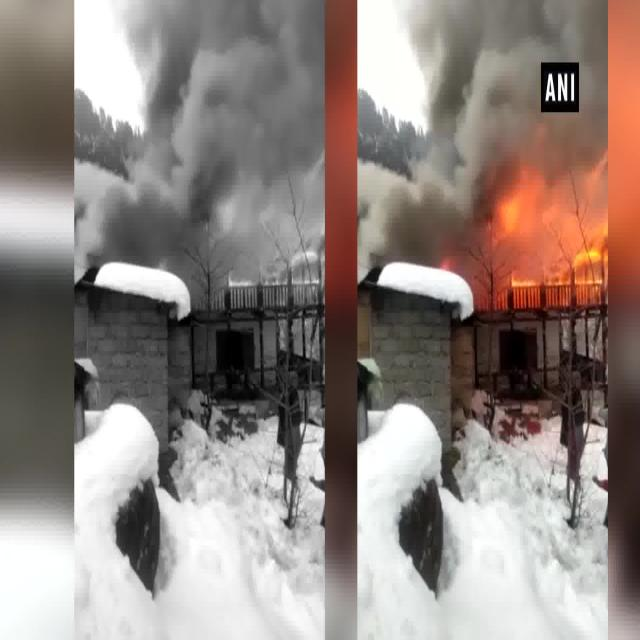smoke: (142, 2, 320, 270)
